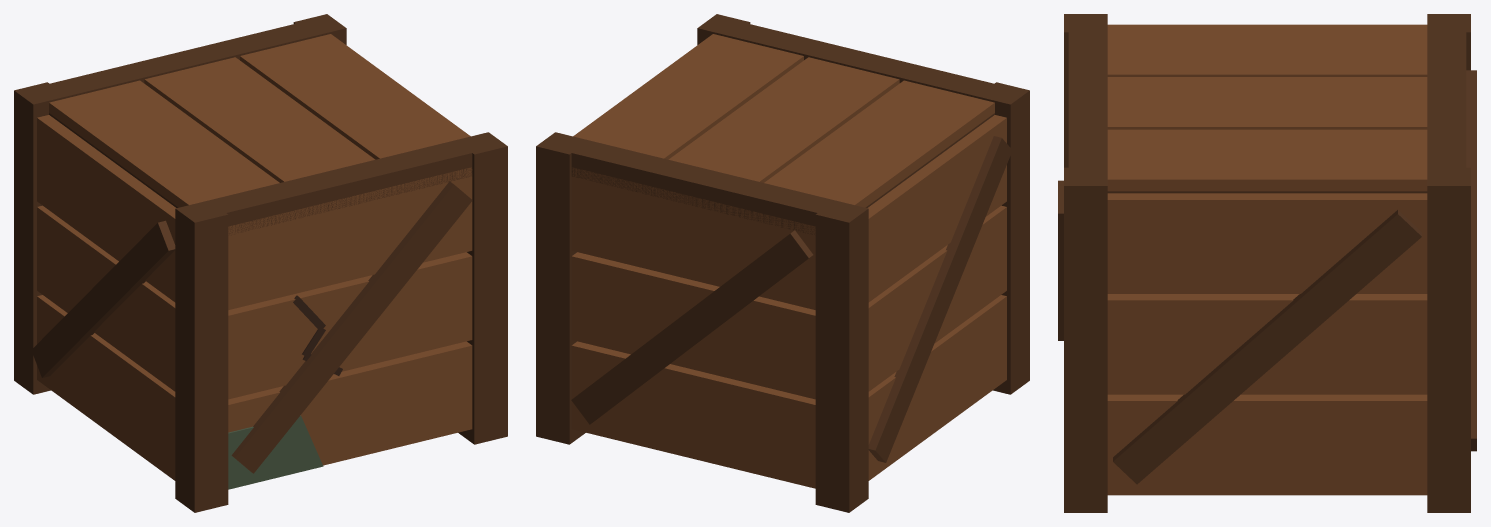
File: MODEL-DESTRUCTIBLE_Crate_Intact.fbx
The picture shows the model from 3 angles, left to right: view 1: azimuth 30°, elevation 25°; view 2: azimuth 150°, elevation 25°; view 3: azimuth 270°, elevation 25°; orthographic projection. The views are drawn at different scales.
Parts seen in each view (by area): view 1: Crate_Intact; view 2: Crate_Intact; view 3: Crate_Intact.
Part boxes in pixels (x1,y1,x2,y2): Crate_Intact: (14, 14, 507, 512); Crate_Intact: (536, 14, 1029, 512); Crate_Intact: (1058, 14, 1476, 512).
Bounding box in the file's own units: 0.72 × 0.62 × 0.72.
Materials: 1 (1 with a texture image).
